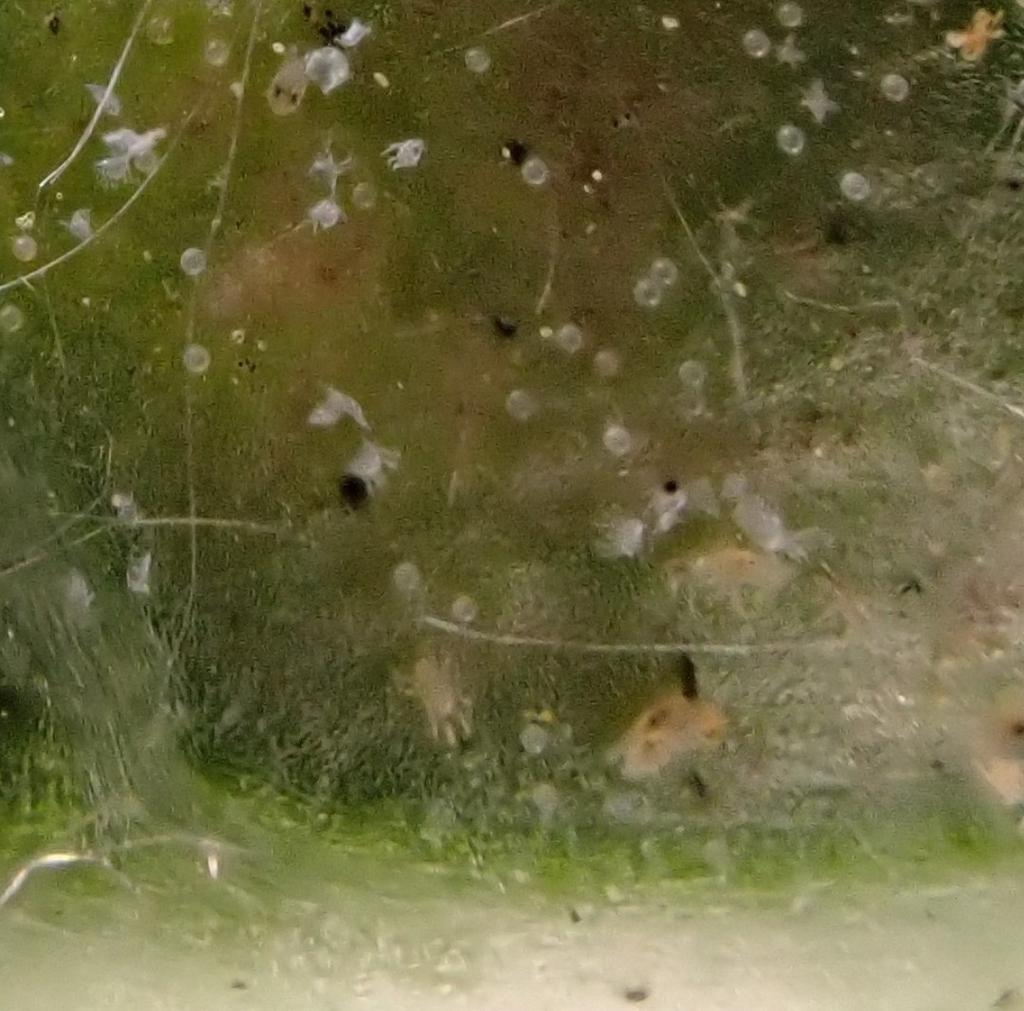tiny_pests: (573, 661, 785, 813)
